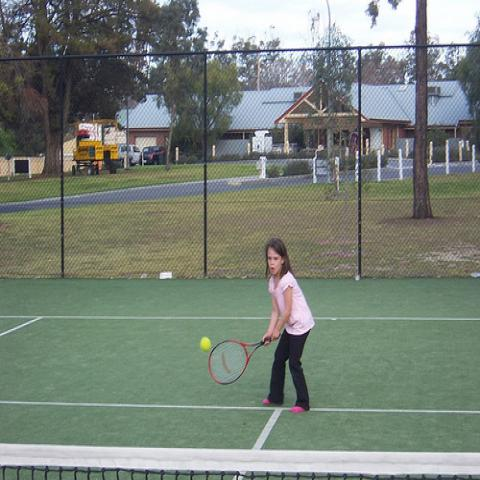car: (141, 144, 166, 165)
truck: (72, 118, 118, 176), (116, 144, 142, 168)
